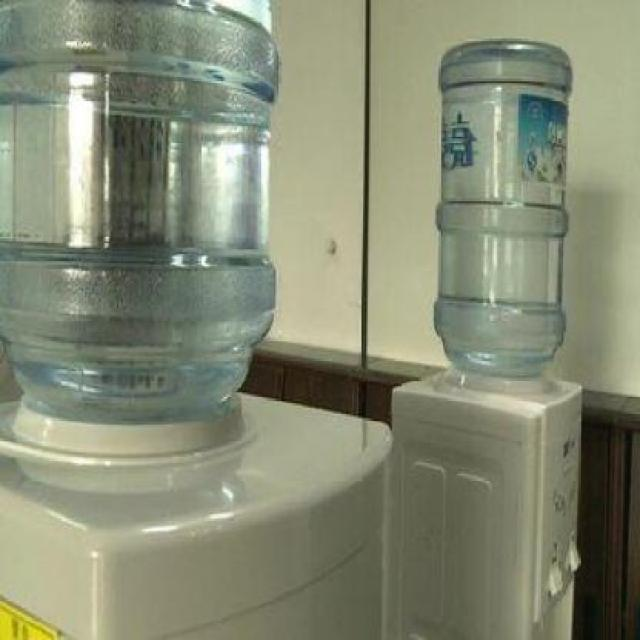cooler: (390, 37, 582, 640)
